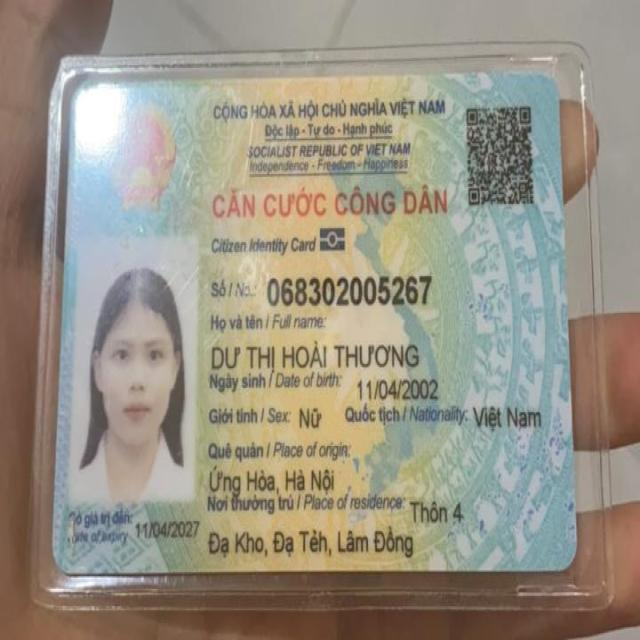bottom_left: (44, 540, 90, 582)
bottom_right: (536, 532, 584, 582)
image_person: (76, 248, 198, 500)
top_left: (61, 70, 102, 116)
top_right: (536, 58, 572, 108)
